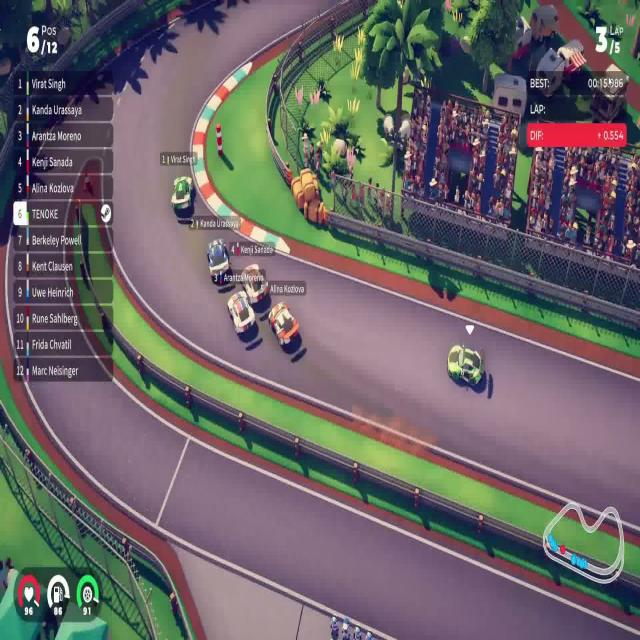car: (446, 342, 484, 387), (268, 300, 300, 351), (227, 289, 256, 337), (205, 236, 231, 285), (240, 263, 269, 305), (170, 174, 193, 214)
